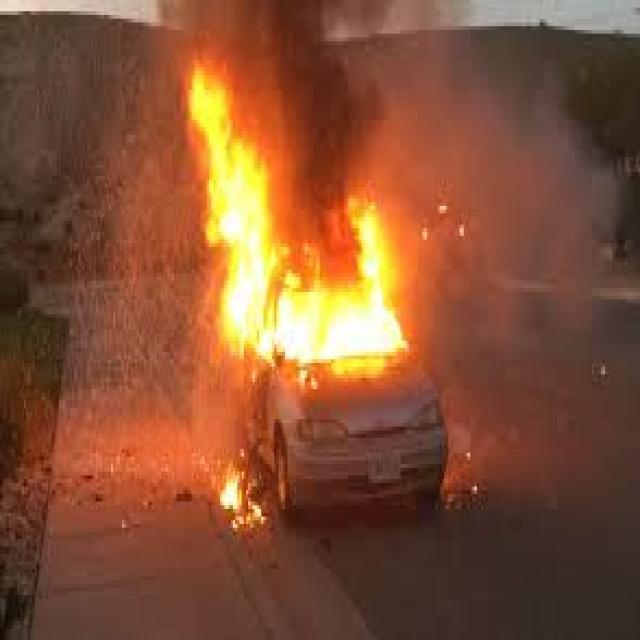fire: (170, 49, 410, 378), (214, 463, 262, 527)
